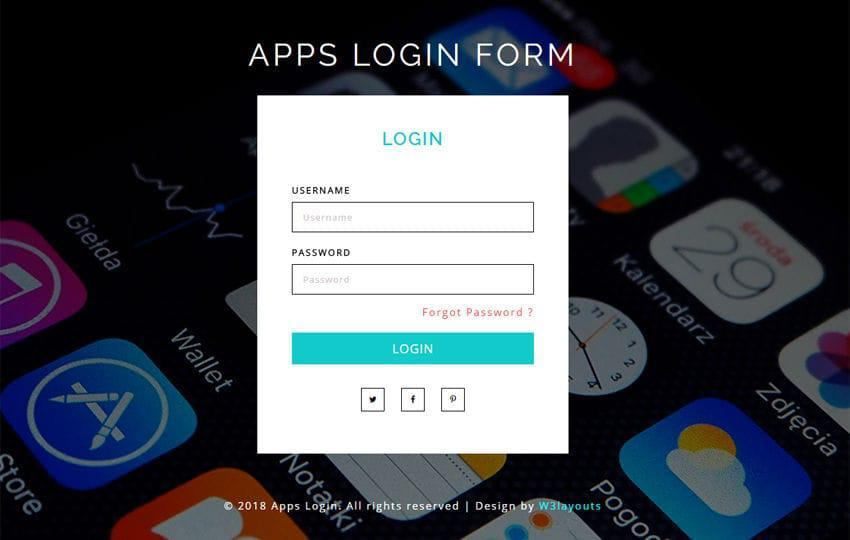button: (291, 332, 535, 365)
icon: (364, 392, 384, 408), (445, 392, 463, 409), (408, 394, 419, 407)
input: (294, 202, 535, 233), (292, 266, 536, 296)
label: (380, 128, 450, 152), (291, 246, 355, 261), (289, 186, 355, 197)
